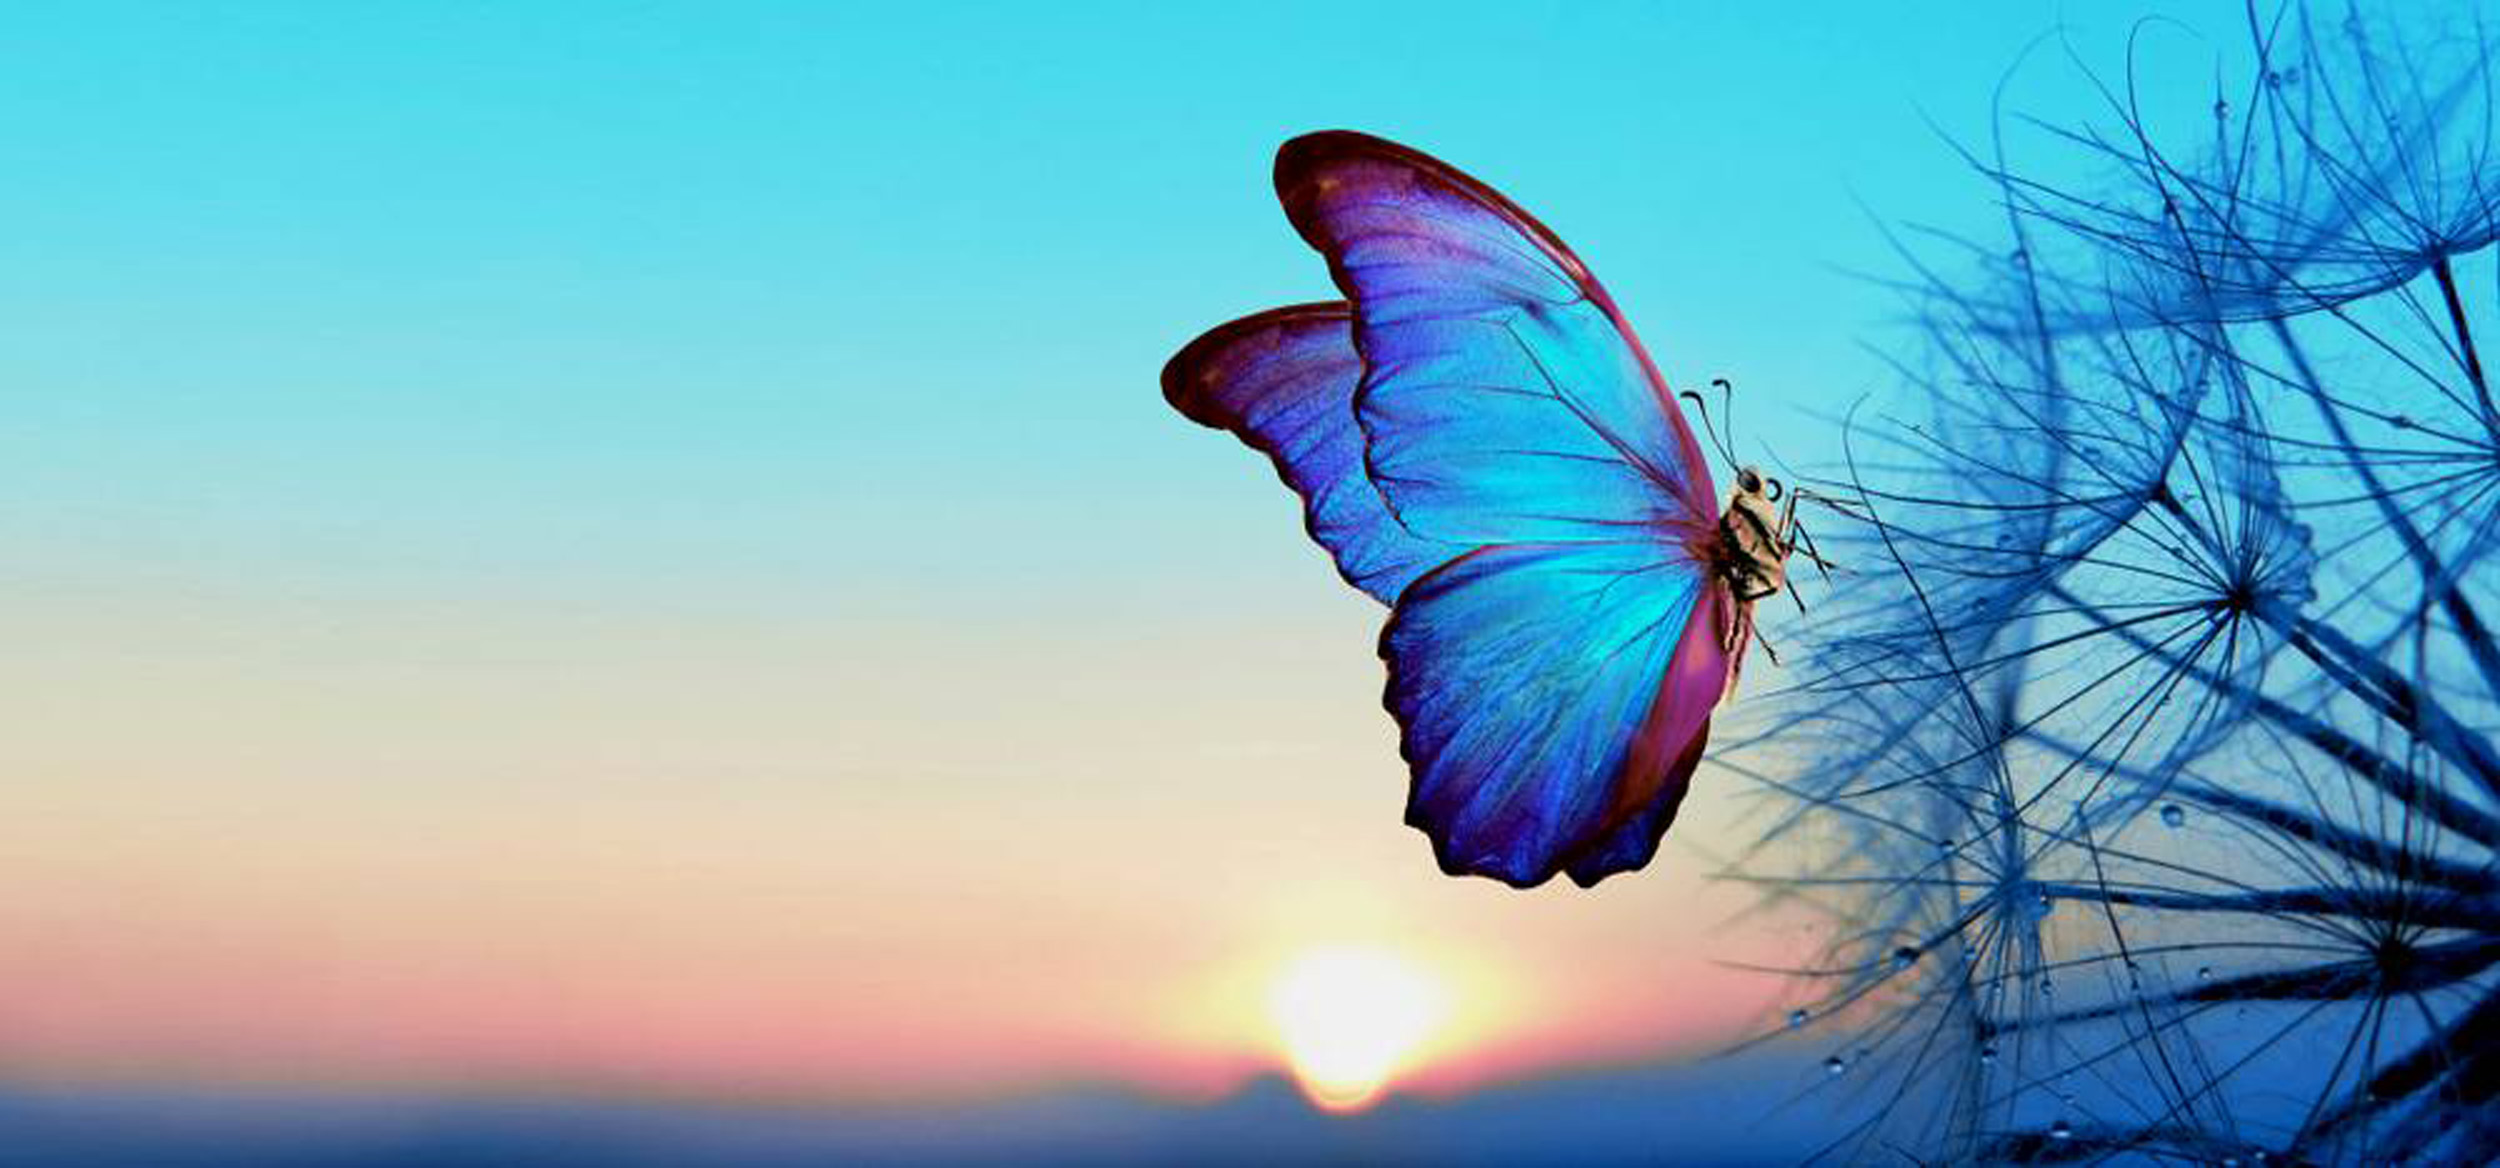Butterfly: (1156, 127, 1854, 900)
